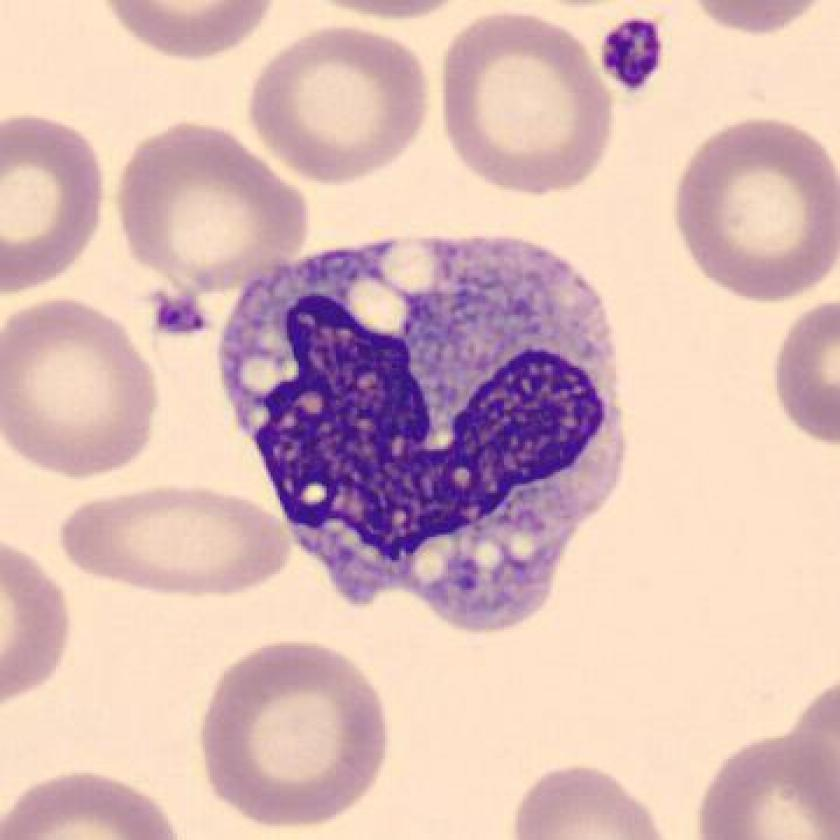monocyte: (207, 216, 648, 647)
